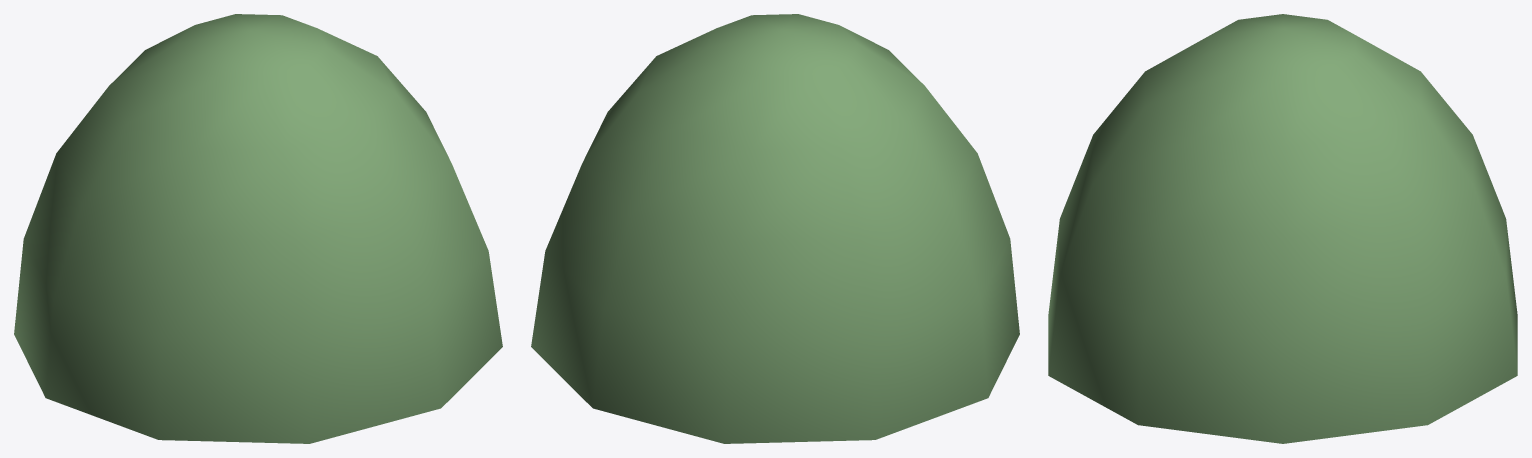
File: Sombrero_3.fbx
The picture shows the model from 3 angles, left to right: view 1: azimuth 30°, elevation 25°; view 2: azimuth 150°, elevation 25°; view 3: azimuth 270°, elevation 25°; orthographic projection.
Parts seen in each view (by area): view 1: Sombrero_3; view 2: Sombrero_3; view 3: Sombrero_3.
Part boxes in pixels (bbox=[...]): Sombrero_3: bbox=[14, 14, 502, 443]; Sombrero_3: bbox=[531, 14, 1019, 443]; Sombrero_3: bbox=[1048, 14, 1517, 443].
Size of the model in its own units: 0.4117 by 0.2932 by 0.3917.
